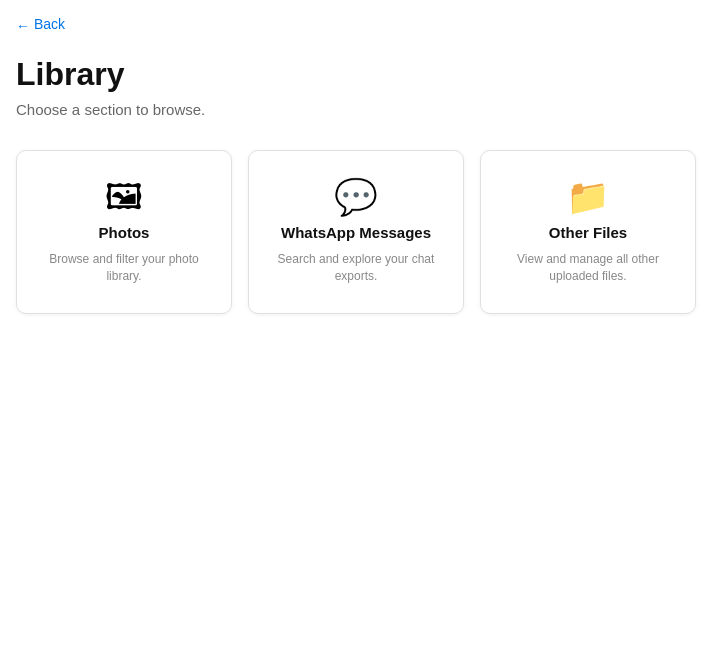
Test: LibraryPage › Back button navigates to home page
Click the button "← Back". click: click(40, 36)
box: x1=16 y1=16 x2=65 y2=56
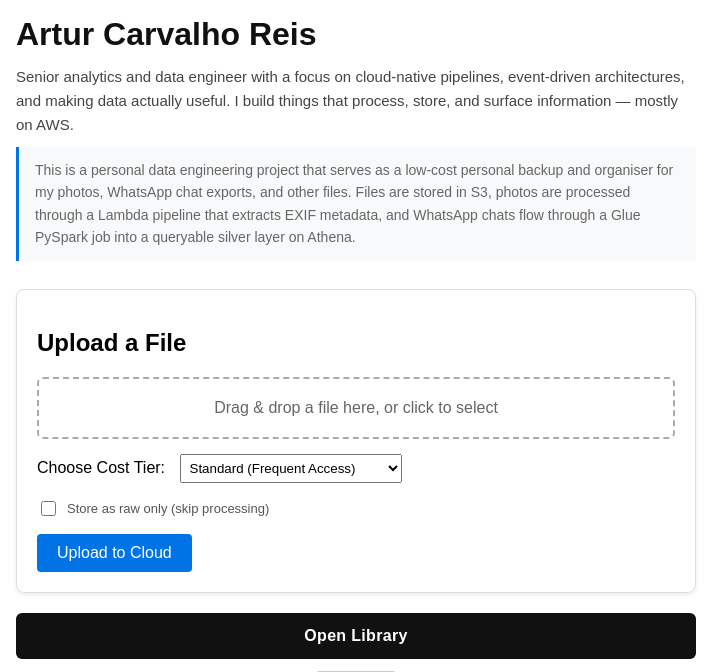
Now the heading "Artur Carvalho Reis" is shown, box x1=16 y1=16 x2=316 y2=52
